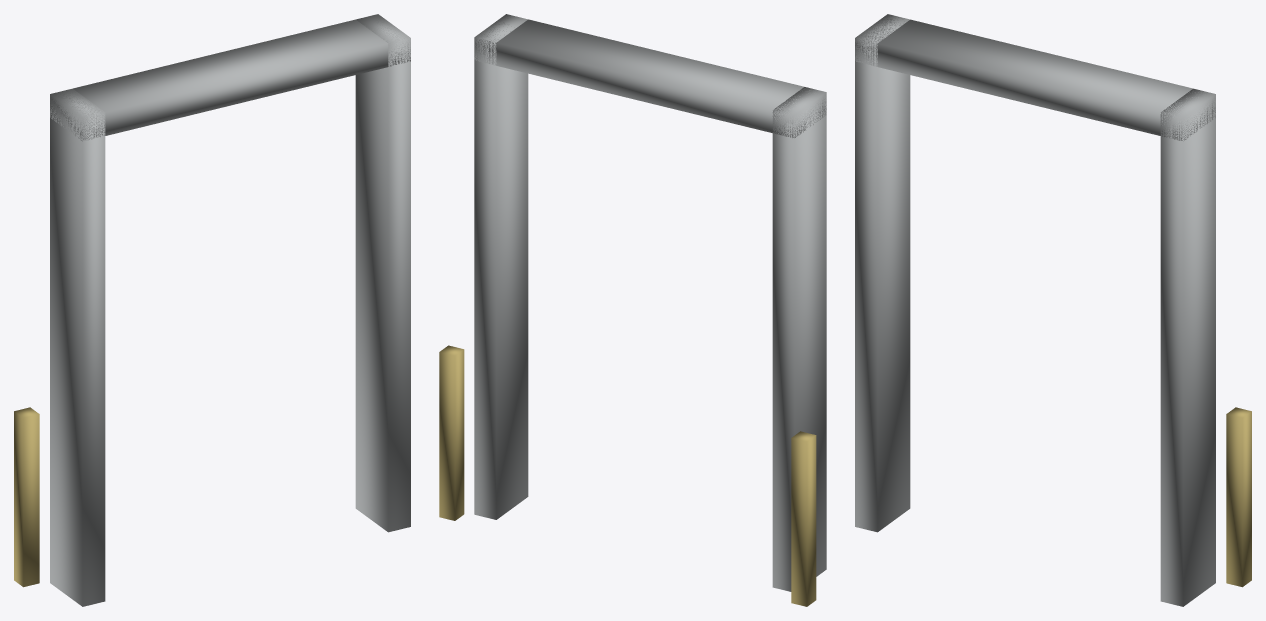
The model's file is atrium_edge_industrial_w140_h220_d28.glb.
The picture shows the model from 3 angles, left to right: view 1: azimuth 30°, elevation 25°; view 2: azimuth 150°, elevation 25°; view 3: azimuth 330°, elevation 25°; orthographic projection. The views are drawn at different scales.
Parts seen in each view (by area): view 1: world; view 2: world; view 3: world.
Boxes of the visible parts, x1,y1,x2,y2 form: world: (14,14,410,606); world: (439,14,826,606); world: (855,14,1251,606).
Bounding box in the file's own units: 1.86 × 2.31 × 0.38.
